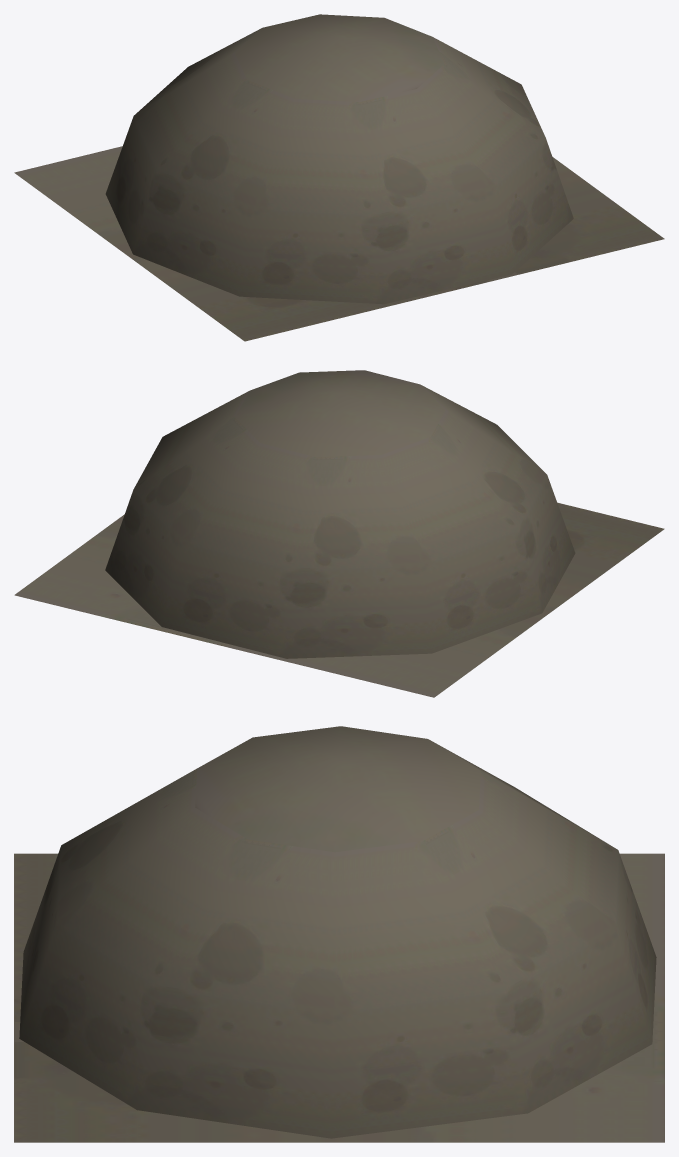
The model's file is Combined_Mesh_root_scene__18_bcf75302__churchyard_diffuse_12_98bb87fc_c1f257.obj.
The picture shows the model from 3 angles, top to bottom: view 1: azimuth 30°, elevation 25°; view 2: azimuth 150°, elevation 25°; view 3: azimuth 270°, elevation 25°; orthographic projection. The views are drawn at different scales.
Bounding box in the file's own units: 139 × 56.25 × 132.
Materials: 185 (185 with a texture image).
